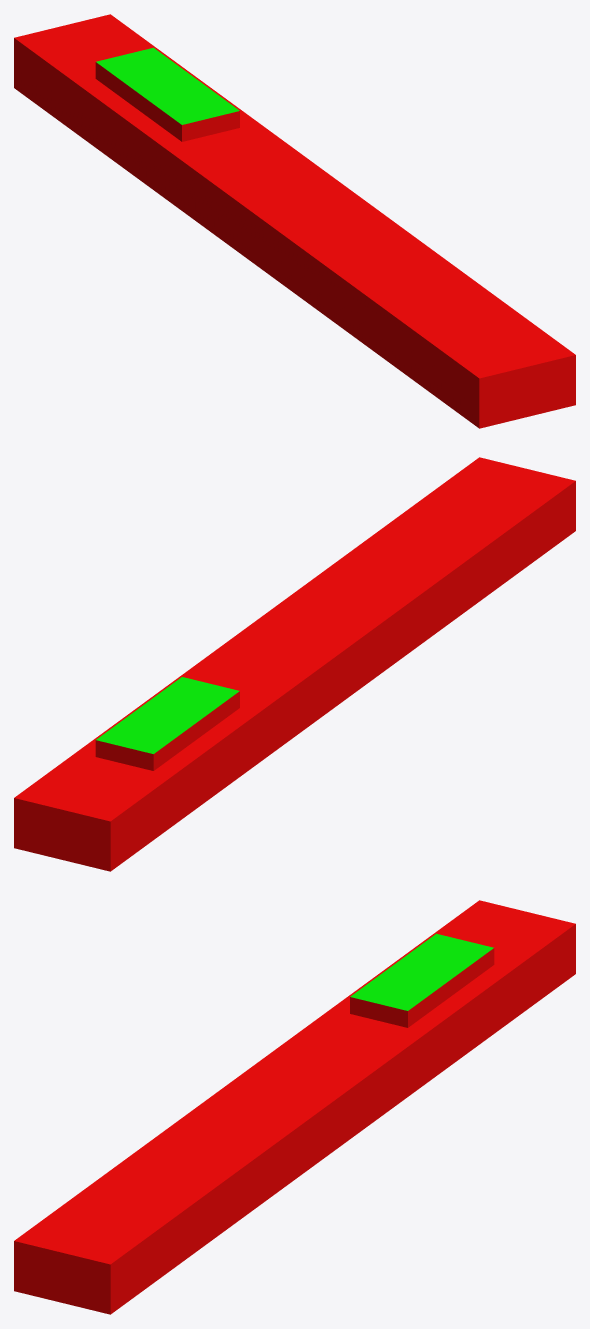
File: labeled.obj
3 renders of one model, top to bottom at view 1: azimuth 30°, elevation 25°; view 2: azimuth 150°, elevation 25°; view 3: azimuth 330°, elevation 25°, orthographic.
Size of the model in its own units: 0.0181 by 0.012 by 0.1509.
